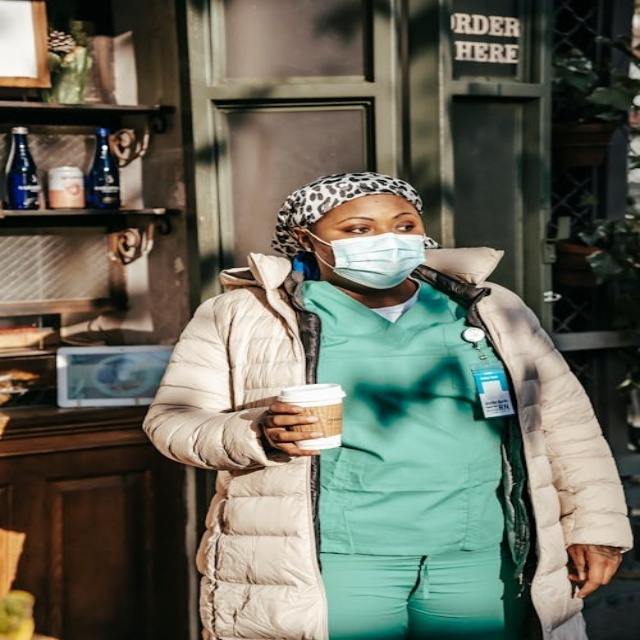Mascara: (310, 228, 429, 289)
Sin_gafas: (332, 212, 420, 234)
Sin_guantes: (562, 544, 627, 603), (258, 403, 327, 458)
